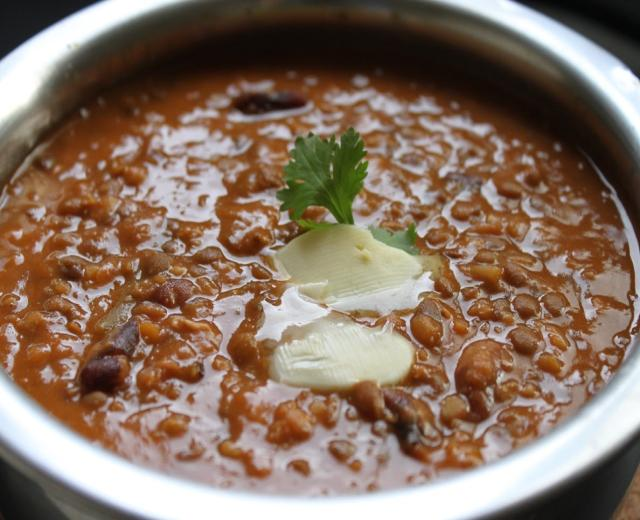dal makhni: (5, 4, 638, 519)
